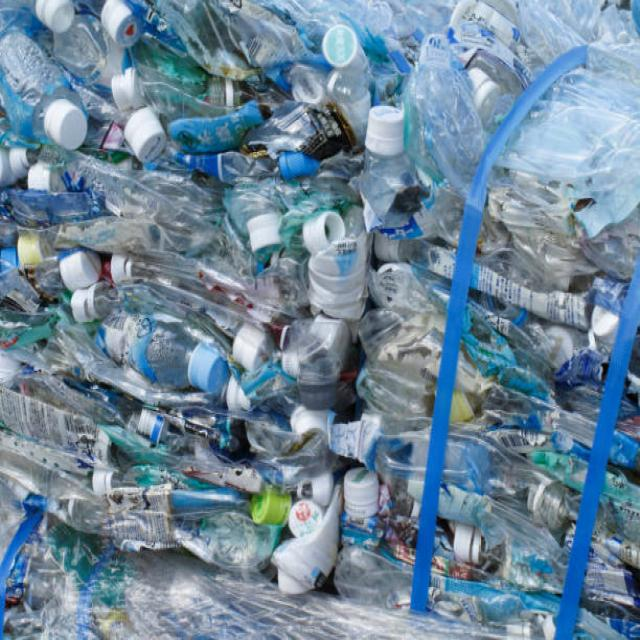plastic: (9, 10, 396, 634)
